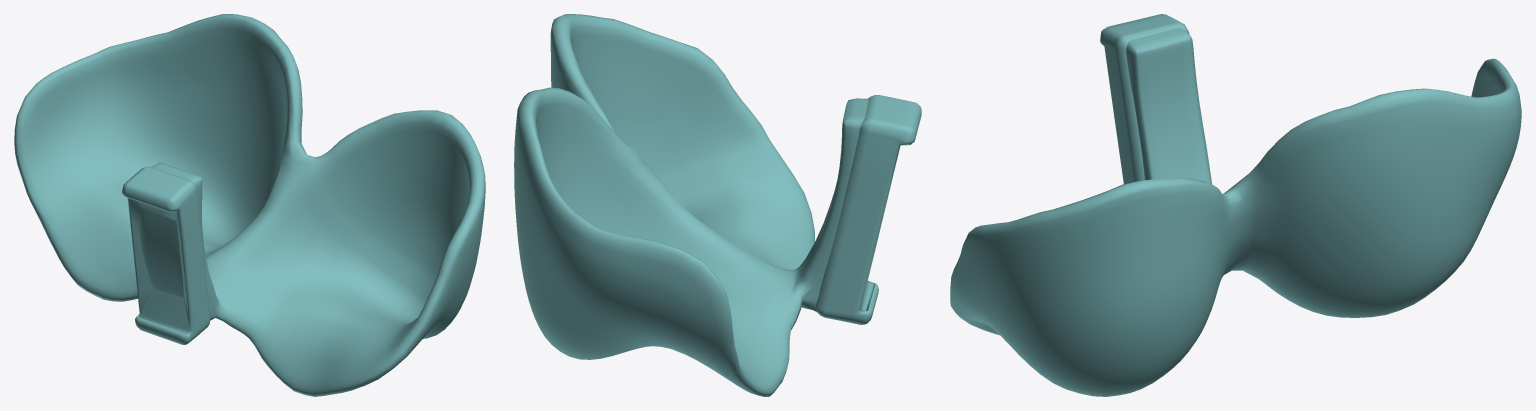
Rendered from TL4_Spacers_BaguetteMetal.001 2.glb.
The picture shows the model from 3 angles, left to right: view 1: azimuth 30°, elevation 25°; view 2: azimuth 150°, elevation 25°; view 3: azimuth 270°, elevation 25°; orthographic projection. The views are drawn at different scales.
Parts seen in each view (by area): view 1: TL4_Spacers_BaguetteMetal.001; view 2: TL4_Spacers_BaguetteMetal.001; view 3: TL4_Spacers_BaguetteMetal.001.
Part boxes in pixels (<box>): TL4_Spacers_BaguetteMetal.001: <box>14,14,485,396</box>; TL4_Spacers_BaguetteMetal.001: <box>514,14,921,396</box>; TL4_Spacers_BaguetteMetal.001: <box>950,14,1521,396</box>.
Size of the model in its own units: 0.9813 by 0.7487 by 1.28.
